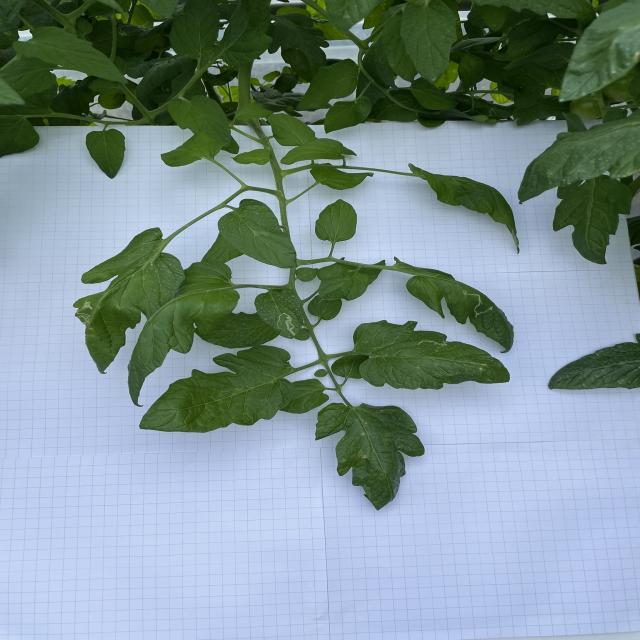Tomato healthy leaf: (126, 262, 242, 408), (139, 344, 294, 434), (517, 115, 640, 204), (408, 163, 520, 254), (552, 174, 632, 265), (12, 26, 130, 84), (399, 0, 457, 85), (200, 0, 272, 67), (268, 13, 330, 83), (168, 94, 232, 148), (295, 58, 359, 111), (195, 310, 279, 349), (168, 0, 220, 59), (161, 132, 228, 167), (85, 128, 126, 180), (314, 198, 358, 242), (278, 378, 329, 414), (310, 162, 374, 190), (280, 138, 346, 165), (324, 96, 372, 133), (267, 112, 319, 146), (409, 77, 460, 111), (319, 269, 369, 301), (230, 148, 272, 166), (236, 102, 274, 121)
Tomato target spot leaf: (72, 226, 186, 374), (393, 255, 515, 354), (353, 320, 511, 390), (254, 288, 303, 339)
